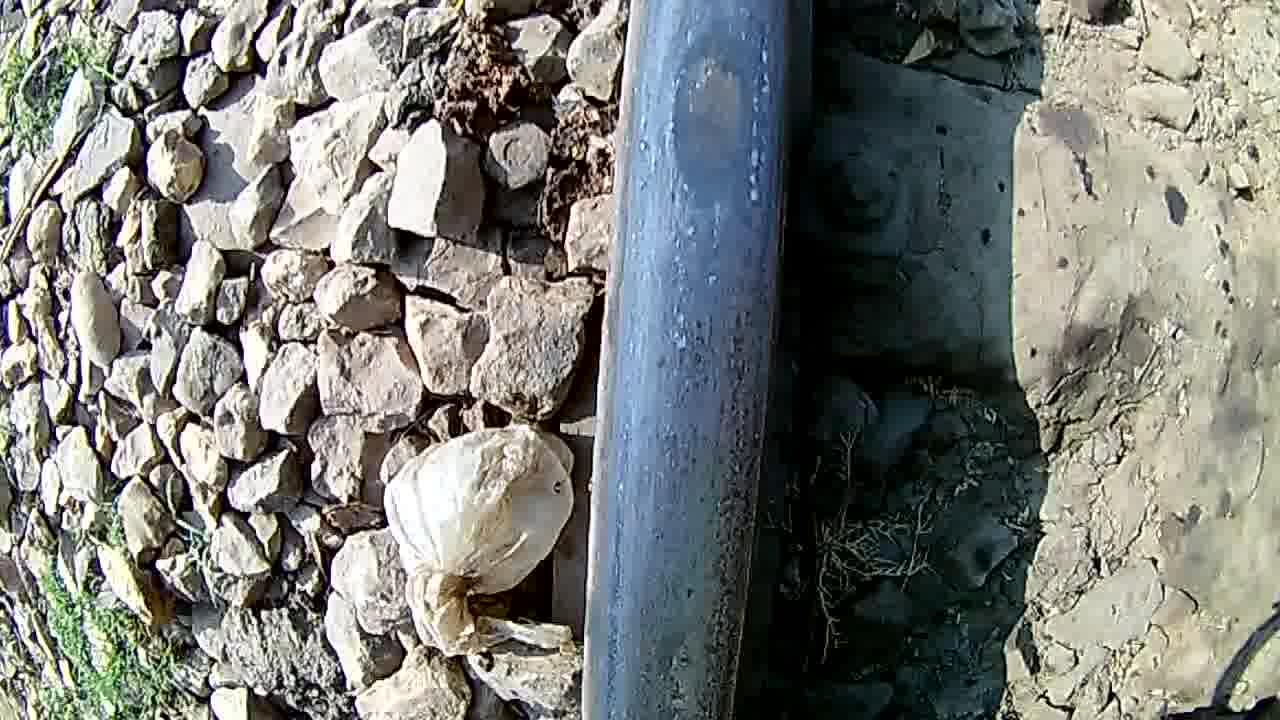bolt_missing: (598, 10, 782, 720)
